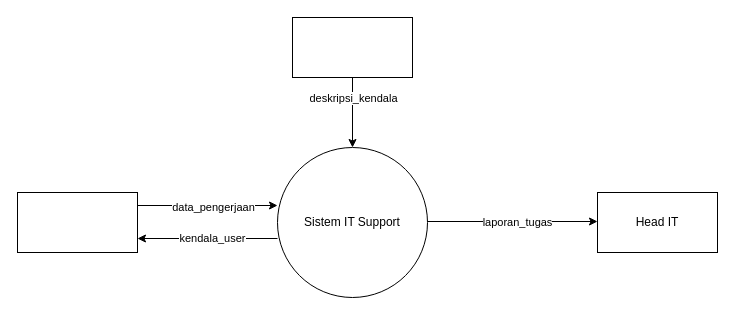
This 735x315 diagram has some shape labels left out. Here are the shapes that lost their labels. From the top down, the centre of each, then its label:
At (x=352, y=47): "User".
At (x=77, y=222): "IT Support".
